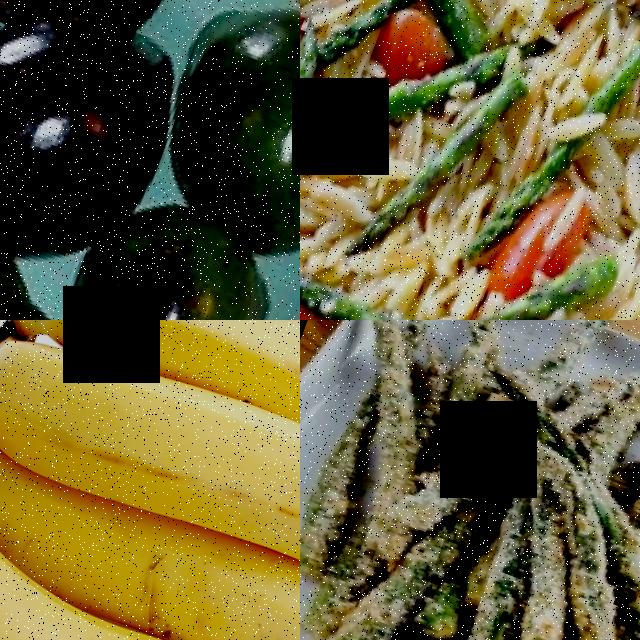asparagus: (395, 88, 502, 254), (491, 250, 582, 320), (587, 7, 640, 124)
avocado: (123, 0, 300, 268), (0, 0, 164, 270), (33, 181, 300, 320), (0, 0, 212, 76)
banana: (0, 320, 300, 640)
